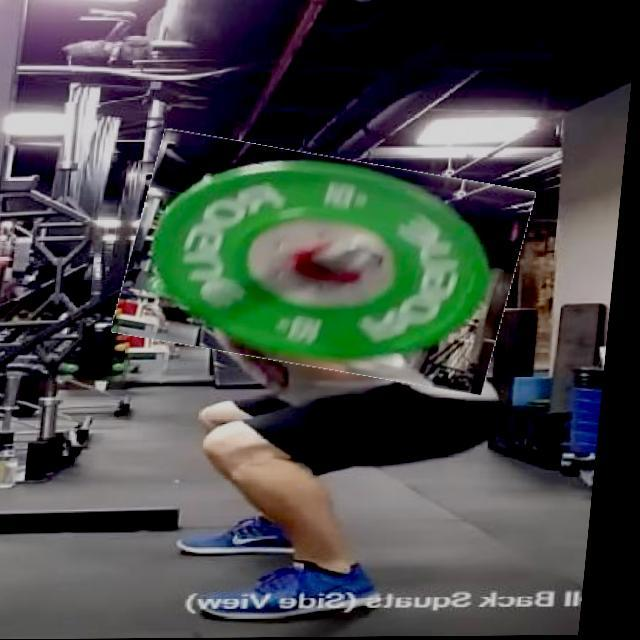barbell: (122, 144, 537, 383)
